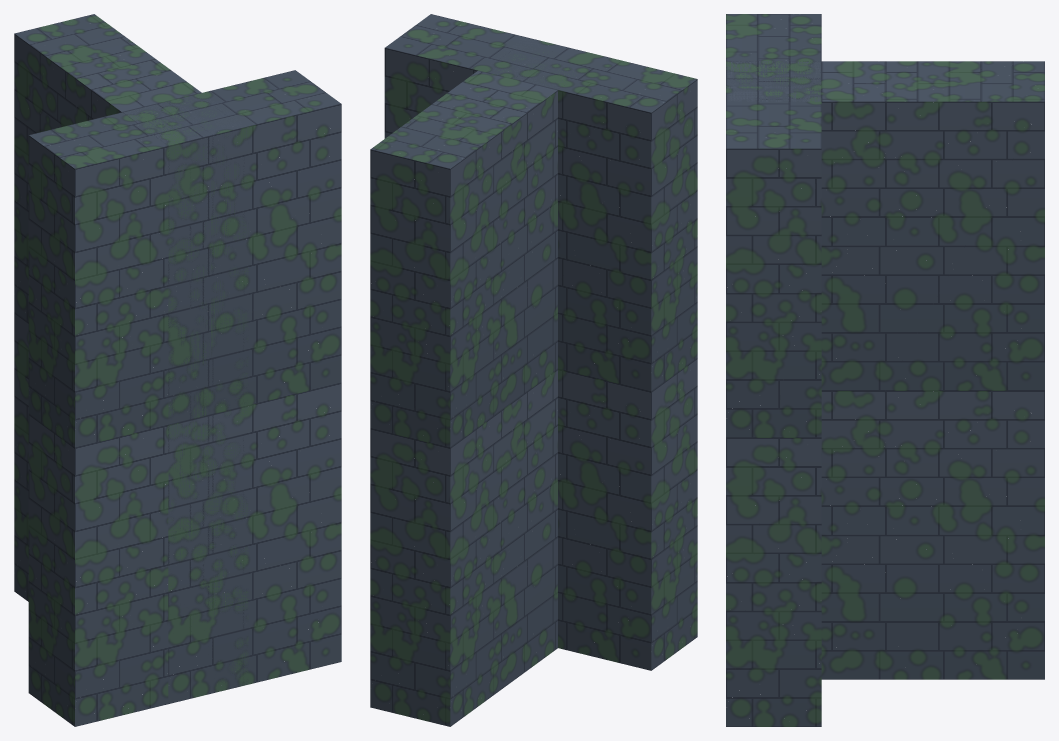
File: junction_T.obj
3 renders of one model, left to right at view 1: azimuth 30°, elevation 25°; view 2: azimuth 150°, elevation 25°; view 3: azimuth 270°, elevation 25°, orthographic. The views are drawn at different scales.
Parts seen in each view (by area): view 1: junction_T; view 2: junction_T; view 3: junction_T.
Part boxes in pixels (x1,y1,x2,y2): junction_T: [14, 14, 341, 726]; junction_T: [370, 14, 697, 726]; junction_T: [726, 14, 1044, 726].
Size of the model in its own units: 1 by 2 by 1.
1 material, 1 textured.
